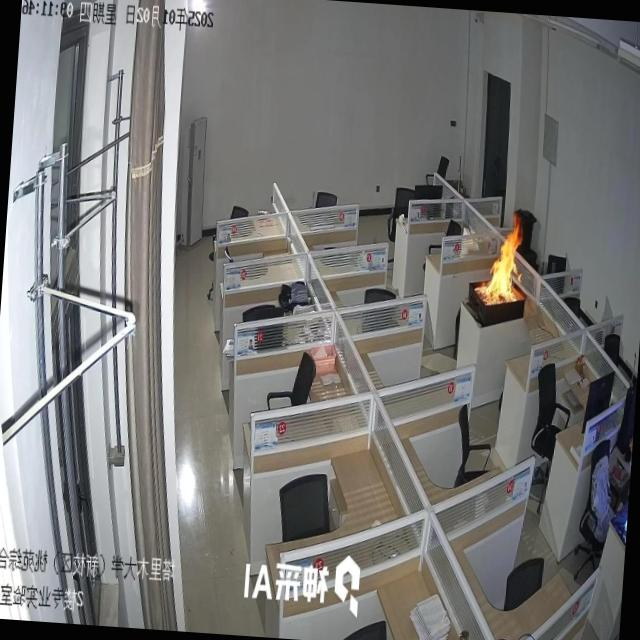fire: (466, 203, 534, 337)
